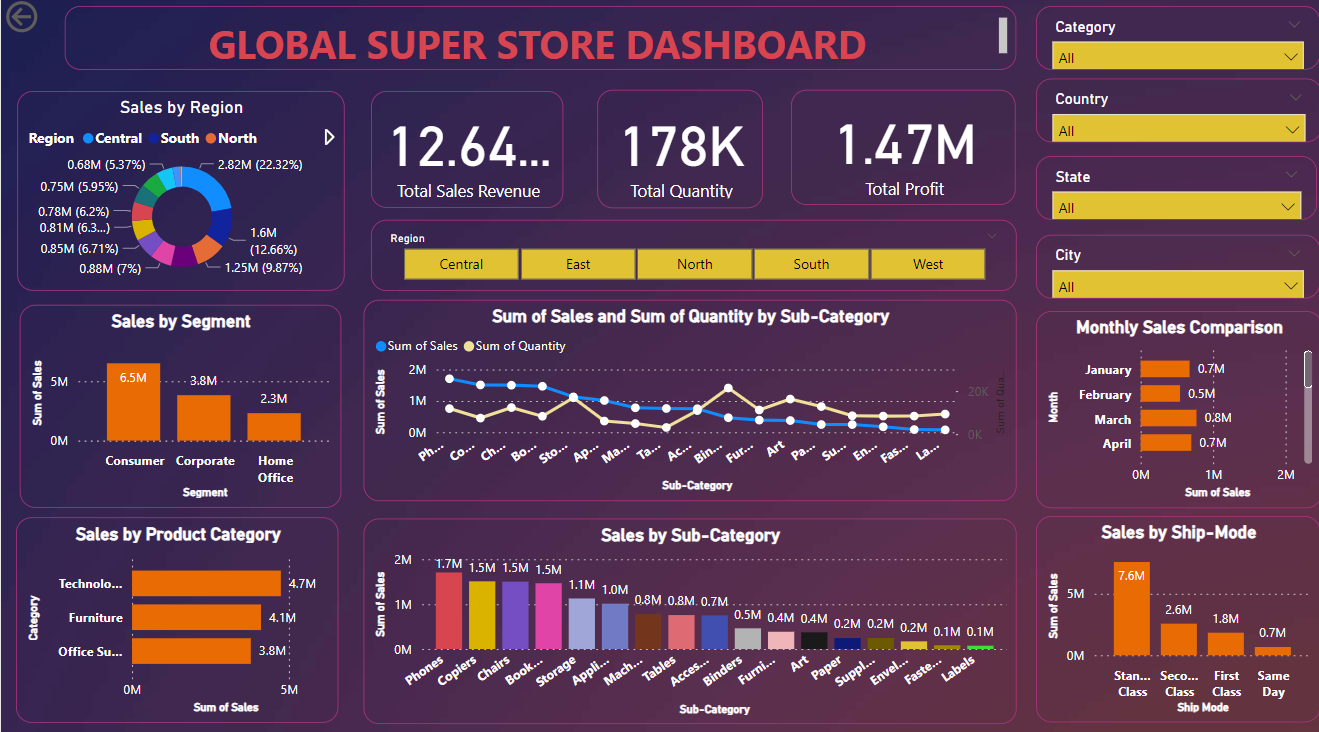

What the dashboard file says about the page in this screenshot:
{"tool":"powerbi","page":{"name":"Page 1","canvas":[1280,720],"ordinal":0},"visuals":[{"type":"actionButton","box":[0,0,100,40],"z":0},{"type":"card","fields":{"Values":["Sum(Global-Superstore csv.Sales)"]},"box":[357.1,91.4,185.7,112.9],"z":1000},{"type":"textbox","box":[61.4,10,918.6,61.4],"z":2000},{"type":"barChart","title":"Sales by Product Category","fields":{"Category":["Global-Superstore csv.Category"],"Y":["Sum(Global-Superstore csv.Sales)"]},"box":[14.3,502.9,311.4,198.6],"z":3000},{"type":"clusteredBarChart","title":"Monthly Sales Comparison","fields":{"Category":["Global-Superstore csv.Order Date.Variation.Date Hierarchy.Month"],"Y":["Sum(Global-Superstore csv.Sales)"]},"box":[998.6,304.3,275.7,190],"z":4000},{"type":"card","fields":{"Values":["Sum(Global-Superstore csv.Quantity)"]},"box":[575.7,90,160,114.3],"z":5000},{"type":"card","fields":{"Values":["Sum(Global-Superstore csv.Profit)"]},"box":[762.9,90,217.1,111.4],"z":6000},{"type":"donutChart","title":"Sales by Region","fields":{"Y":["Sum(Global-Superstore csv.Sales)"],"Category":["Global-Superstore csv.Region"]},"box":[15.7,91.4,315.7,192.9],"z":7000},{"type":"columnChart","title":"Sales by Segment","fields":{"Category":["Global-Superstore csv.Segment"],"Y":["Sum(Global-Superstore csv.Sales)"]},"box":[18.6,298.6,310,195.7],"z":8000},{"type":"columnChart","title":"Sales by Sub-Category","fields":{"Y":["Sum(Global-Superstore csv.Sales)"],"Category":["Global-Superstore csv.Sub-Category"]},"box":[350,504.3,630,198.6],"z":9000},{"type":"columnChart","title":"Sales by Ship-Mode","fields":{"Y":["Sum(Global-Superstore csv.Sales)"],"Category":["Global-Superstore csv.Ship Mode"]},"box":[999,502.2,274.4,199],"z":10000},{"type":"slicer","title":"Region","fields":{"Values":["Global-Superstore csv.Region"]},"box":[357.1,215.7,622.9,68.6],"z":11000},{"type":"slicer","fields":{"Values":["Global-Superstore csv.Category"]},"box":[998.6,10,274.3,61.4],"z":12000},{"type":"slicer","fields":{"Values":["Global-Superstore csv.Country"]},"box":[998.6,80,275.7,61.4],"z":13000},{"type":"slicer","fields":{"Values":["Global-Superstore csv.State"]},"box":[998.6,154.3,271.4,61.4],"z":14000},{"type":"slicer","fields":{"Values":["Global-Superstore csv.City"]},"box":[998.6,230,274.3,61.4],"z":15000},{"type":"lineChart","fields":{"Category":["Global-Superstore csv.Sub-Category"],"Y":["Sum(Global-Superstore csv.Sales)"],"Y2":["Sum(Global-Superstore csv.Quantity)"]},"box":[350,292.9,630,194.3],"z":16000}]}

Visuals, with their boxes in screenshot pixels (x1, y1, x2, y2), scaled from the page's 1280x720 canvas onto the 1319x732 screenshot:
actionButton: region(0, 0, 103, 41)
card - Sum(Global-Superstore csv.Sales): region(368, 93, 559, 208)
textbox: region(63, 10, 1010, 73)
"Sales by Product Category" barChart: region(15, 511, 336, 713)
"Monthly Sales Comparison" clusteredBarChart: region(1029, 309, 1313, 503)
card - Sum(Global-Superstore csv.Quantity): region(593, 92, 758, 208)
card - Sum(Global-Superstore csv.Profit): region(786, 92, 1010, 205)
"Sales by Region" donutChart: region(16, 93, 341, 289)
"Sales by Segment" columnChart: region(19, 304, 339, 503)
"Sales by Sub-Category" columnChart: region(361, 513, 1010, 715)
"Sales by Ship-Mode" columnChart: region(1029, 511, 1312, 713)
"Region" slicer: region(368, 219, 1010, 289)
slicer - Global-Superstore csv.Category: region(1029, 10, 1312, 73)
slicer - Global-Superstore csv.Country: region(1029, 81, 1313, 144)
slicer - Global-Superstore csv.State: region(1029, 157, 1309, 219)
slicer - Global-Superstore csv.City: region(1029, 234, 1312, 296)
lineChart - Global-Superstore csv.Sub-Category x Sum(Global-Superstore csv.Sales): region(361, 298, 1010, 495)
